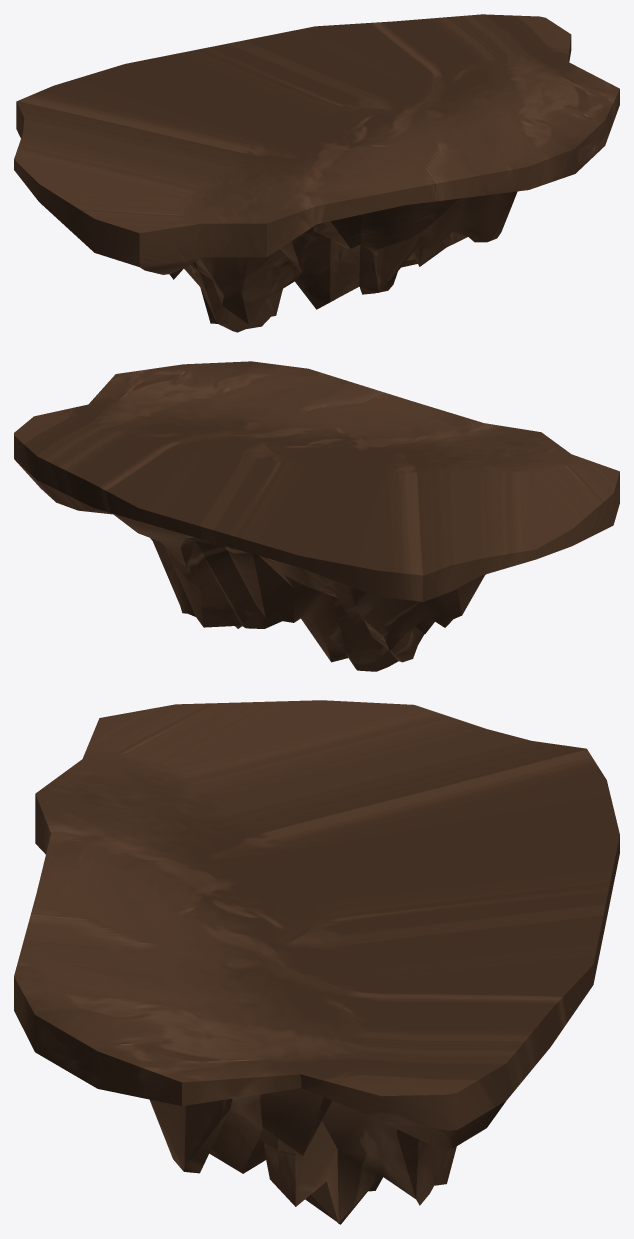
File: wyspa_duza_p.obj
The picture shows the model from 3 angles, top to bottom: view 1: azimuth 30°, elevation 25°; view 2: azimuth 150°, elevation 25°; view 3: azimuth 270°, elevation 25°; orthographic projection. The views are drawn at different scales.
Parts seen in each view (by area): view 1: Landscape.002; view 2: Landscape.002; view 3: Landscape.002.
Boxes of the visible parts, x1,y1,x2,y2 form: Landscape.002: (14, 14, 619, 332); Landscape.002: (14, 361, 619, 671); Landscape.002: (14, 700, 619, 1224).
Size of the model in its own units: 132 by 45.92 by 85.49.
Materials: 1 (1 with a texture image).
